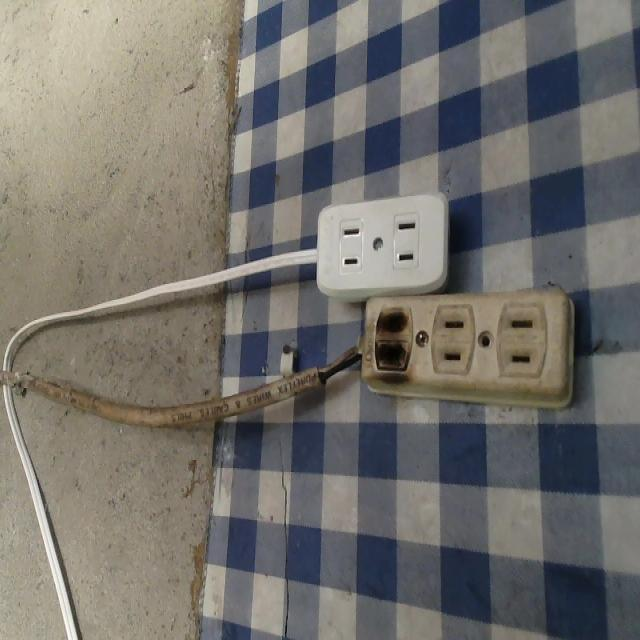-: (358, 295, 428, 393)
